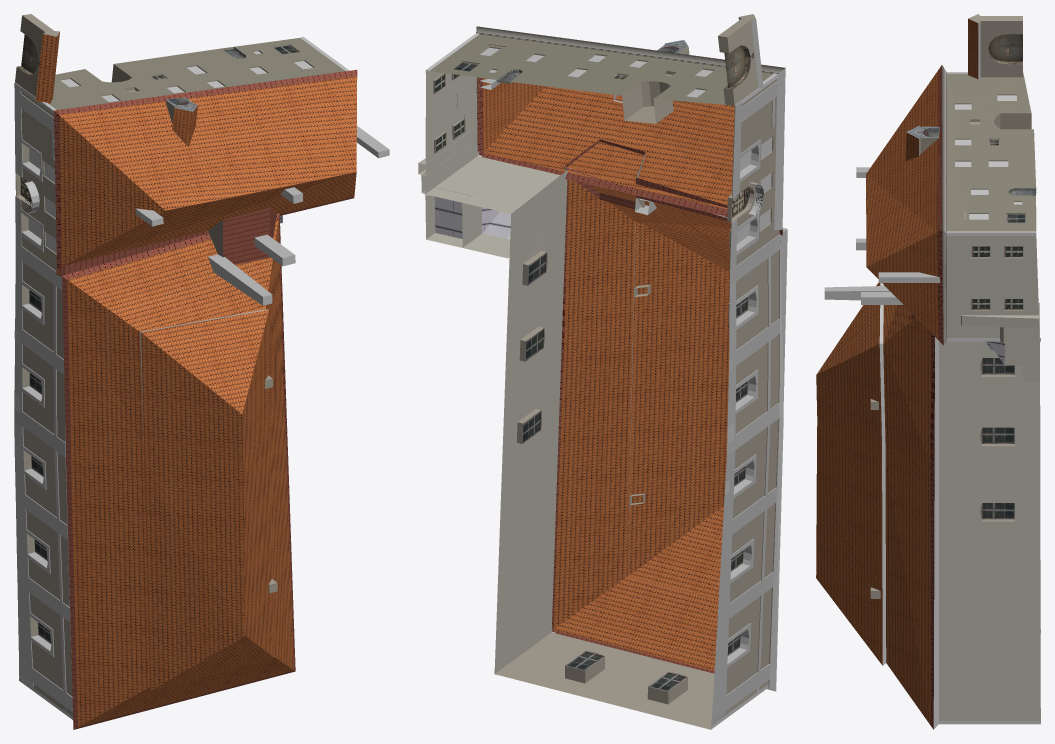
Rendered from Ryytli 9.obj.
The picture shows the model from 3 angles, left to right: view 1: azimuth 30°, elevation 25°; view 2: azimuth 150°, elevation 25°; view 3: azimuth 270°, elevation 25°; orthographic projection. The views are drawn at different scales.
Visible parts, largest first — view 1: Ryytli_9; view 2: Ryytli_9; view 3: Ryytli_9.
Part boxes in pixels (<box>): Ryytli_9: <box>14,14,389,729</box>; Ryytli_9: <box>418,14,787,729</box>; Ryytli_9: <box>816,14,1040,729</box>.
Size of the model in its own units: 28.35 by 59.75 by 19.69.
